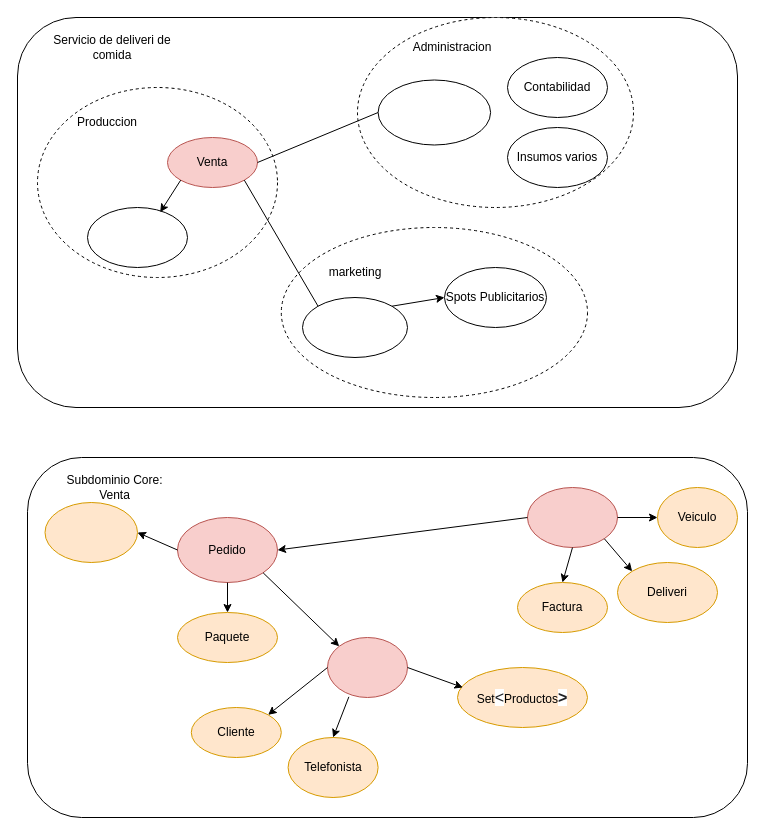
Image size: 765x835. Some labels were removed from this diagram. Each missing label, with the centre of its shape:
"Cocinero" goes at point 91,532.
"Envio" goes at point 572,517.
"Equipamiento" goes at point 137,237.
"Manejo de materias primas" goes at point 434,112.
"Orden" goes at point 367,667.
"Redes Sociales" goes at point 355,327.
